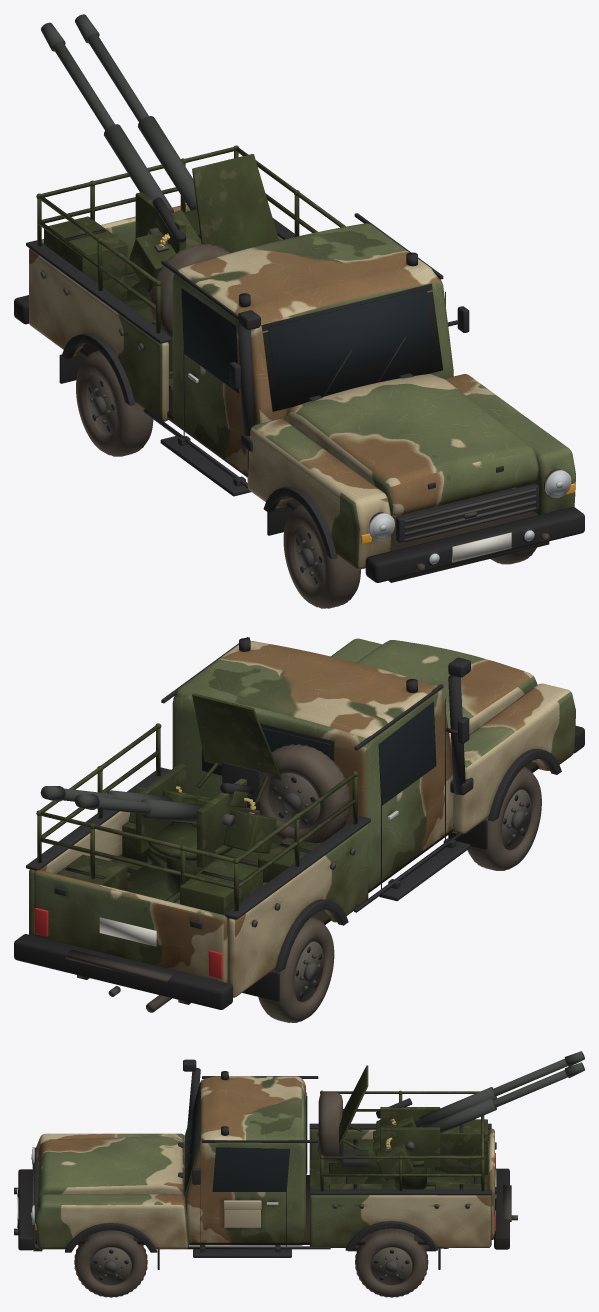
Rendered from technique.glb.
3 renders of one model, top to bottom at view 1: azimuth 30°, elevation 25°; view 2: azimuth 150°, elevation 25°; view 3: azimuth 270°, elevation 25°, orthographic. The views are drawn at different scales.
Parts seen in each view (by area): view 1: Groupe_V_Camo, Groupe_V_Noir (×2), Groupe_V_Olive (×3), Groupe_V_Vitre, Groupe_V_Canon, V_RoueArD_Pneu, V_RoueAvD_Pneu, Groupe_V_Acier, V_RoueSecours_Pneu, Groupe_V_Chassis, Groupe_V_Plaque, V_RoueArD_Jante (+3 smaller); view 2: Groupe_V_Camo, Groupe_V_Olive (×3), Groupe_V_Noir (×3), Groupe_V_Vitre, V_RoueSecours_Pneu, V_RoueArD_Pneu, Groupe_V_Canon, V_RoueAvD_Pneu, Groupe_V_Acier, V_RoueSecours_Jante, V_RoueAvD_Jante, V_RoueArD_Jante (+3 smaller); view 3: Groupe_V_Camo, Groupe_V_Olive (×3), Groupe_V_Noir (×3), Groupe_V_Vitre, Groupe_V_Canon, V_RoueArG_Pneu, V_RoueAvG_Pneu, V_RoueSecours_Pneu, V_RoueAvG_Jante, V_RoueArG_Jante, Groupe_V_Toile, Groupe_V_Chassis (+1 smaller).
Part boxes in pixels (left/top/right/bottom): Groupe_V_Camo: left=29, top=204, right=575, bottom=569; Groupe_V_Noir (×2): left=14, top=213, right=584, bottom=582; Groupe_V_Olive (×3): left=36, top=145, right=345, bottom=390; Groupe_V_Vitre: left=181, top=288, right=434, bottom=393; Groupe_V_Canon: left=41, top=14, right=196, bottom=212; V_RoueArD_Pneu: left=76, top=350, right=153, bottom=456; V_RoueAvD_Pneu: left=283, top=504, right=360, bottom=608; Groupe_V_Acier: left=40, top=271, right=549, bottom=582; V_RoueSecours_Pneu: left=149, top=244, right=230, bottom=339; Groupe_V_Chassis: left=78, top=272, right=538, bottom=551; Groupe_V_Plaque: left=452, top=532, right=511, bottom=562; V_RoueArD_Jante: left=86, top=375, right=115, bottom=435; Groupe_V_Camo: left=29, top=638, right=575, bottom=997; Groupe_V_Olive (×3): left=36, top=693, right=357, bottom=919; Groupe_V_Noir (×3): left=14, top=637, right=584, bottom=1009; Groupe_V_Vitre: left=205, top=701, right=436, bottom=805; V_RoueSecours_Pneu: left=260, top=744, right=350, bottom=843; V_RoueArD_Pneu: left=258, top=916, right=334, bottom=1022; Groupe_V_Canon: left=40, top=786, right=202, bottom=823; V_RoueAvD_Pneu: left=467, top=766, right=541, bottom=870; Groupe_V_Acier: left=65, top=848, right=355, bottom=1012; V_RoueSecours_Jante: left=268, top=773, right=320, bottom=828; V_RoueAvD_Jante: left=502, top=789, right=531, bottom=849; V_RoueArD_Jante: left=294, top=941, right=323, bottom=1001; Groupe_V_Camo: left=35, top=1076, right=494, bottom=1249; Groupe_V_Olive (×3): left=309, top=1065, right=488, bottom=1191; Groupe_V_Noir (×3): left=18, top=1059, right=509, bottom=1269; Groupe_V_Vitre: left=188, top=1087, right=307, bottom=1191; Groupe_V_Canon: left=415, top=1051, right=584, bottom=1133; V_RoueArG_Pneu: left=355, top=1228, right=428, bottom=1297; V_RoueAvG_Pneu: left=74, top=1230, right=147, bottom=1297; V_RoueSecours_Pneu: left=318, top=1092, right=342, bottom=1162; V_RoueAvG_Jante: left=90, top=1247, right=131, bottom=1285; V_RoueArG_Jante: left=371, top=1247, right=412, bottom=1285; Groupe_V_Toile: left=223, top=1200, right=261, bottom=1227; Groupe_V_Chassis: left=35, top=1175, right=477, bottom=1251.
Size of the model in its own units: 2.1 by 2.6 by 6.47.
16 materials, 2 textured.
